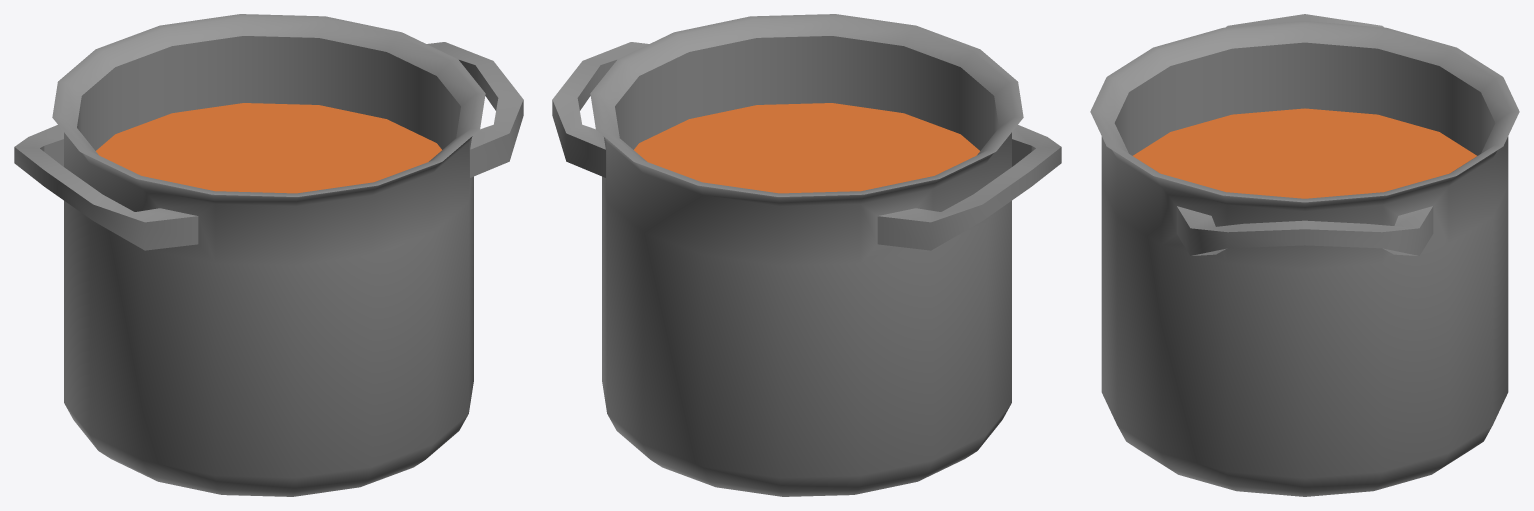
Rendered from SoupPot.fbx.
3 views of the same model, side by side, from view 1: azimuth 30°, elevation 25°; view 2: azimuth 150°, elevation 25°; view 3: azimuth 270°, elevation 25° (orthographic).
Visible parts, largest first — view 1: SoupPot; view 2: SoupPot; view 3: SoupPot.
Part boxes in pixels (<box>): SoupPot: <box>14,14,523,496</box>; SoupPot: <box>552,14,1061,496</box>; SoupPot: <box>1090,14,1519,496</box>.
Size of the model in its own units: 87.18 by 59.85 by 73.5.
